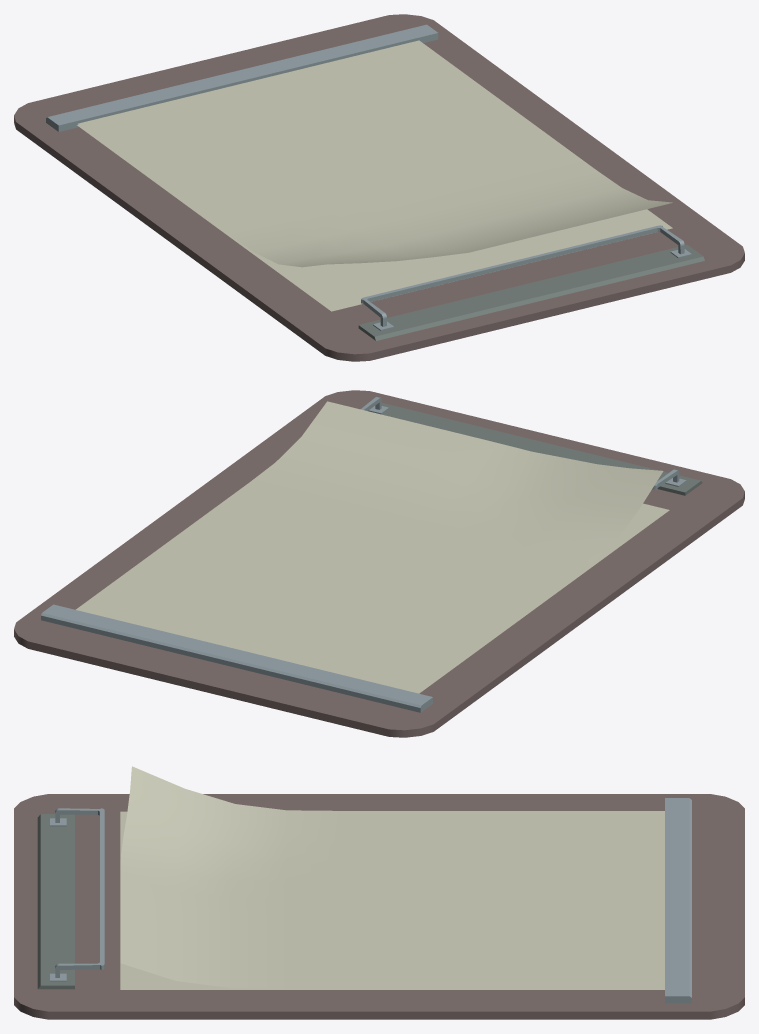
File: Clipboard.fbx
The picture shows the model from 3 angles, top to bottom: view 1: azimuth 30°, elevation 25°; view 2: azimuth 150°, elevation 25°; view 3: azimuth 270°, elevation 25°; orthographic projection. The views are drawn at different scales.
Visible parts, largest first — view 1: pCube82; view 2: pCube82; view 3: pCube82.
Part boxes in pixels (bbox=[...]): pCube82: bbox=[14, 14, 744, 361]; pCube82: bbox=[14, 390, 744, 737]; pCube82: bbox=[14, 766, 744, 1019].
Bounding box in the file's own units: 1.22 × 0.1549 × 1.73.
